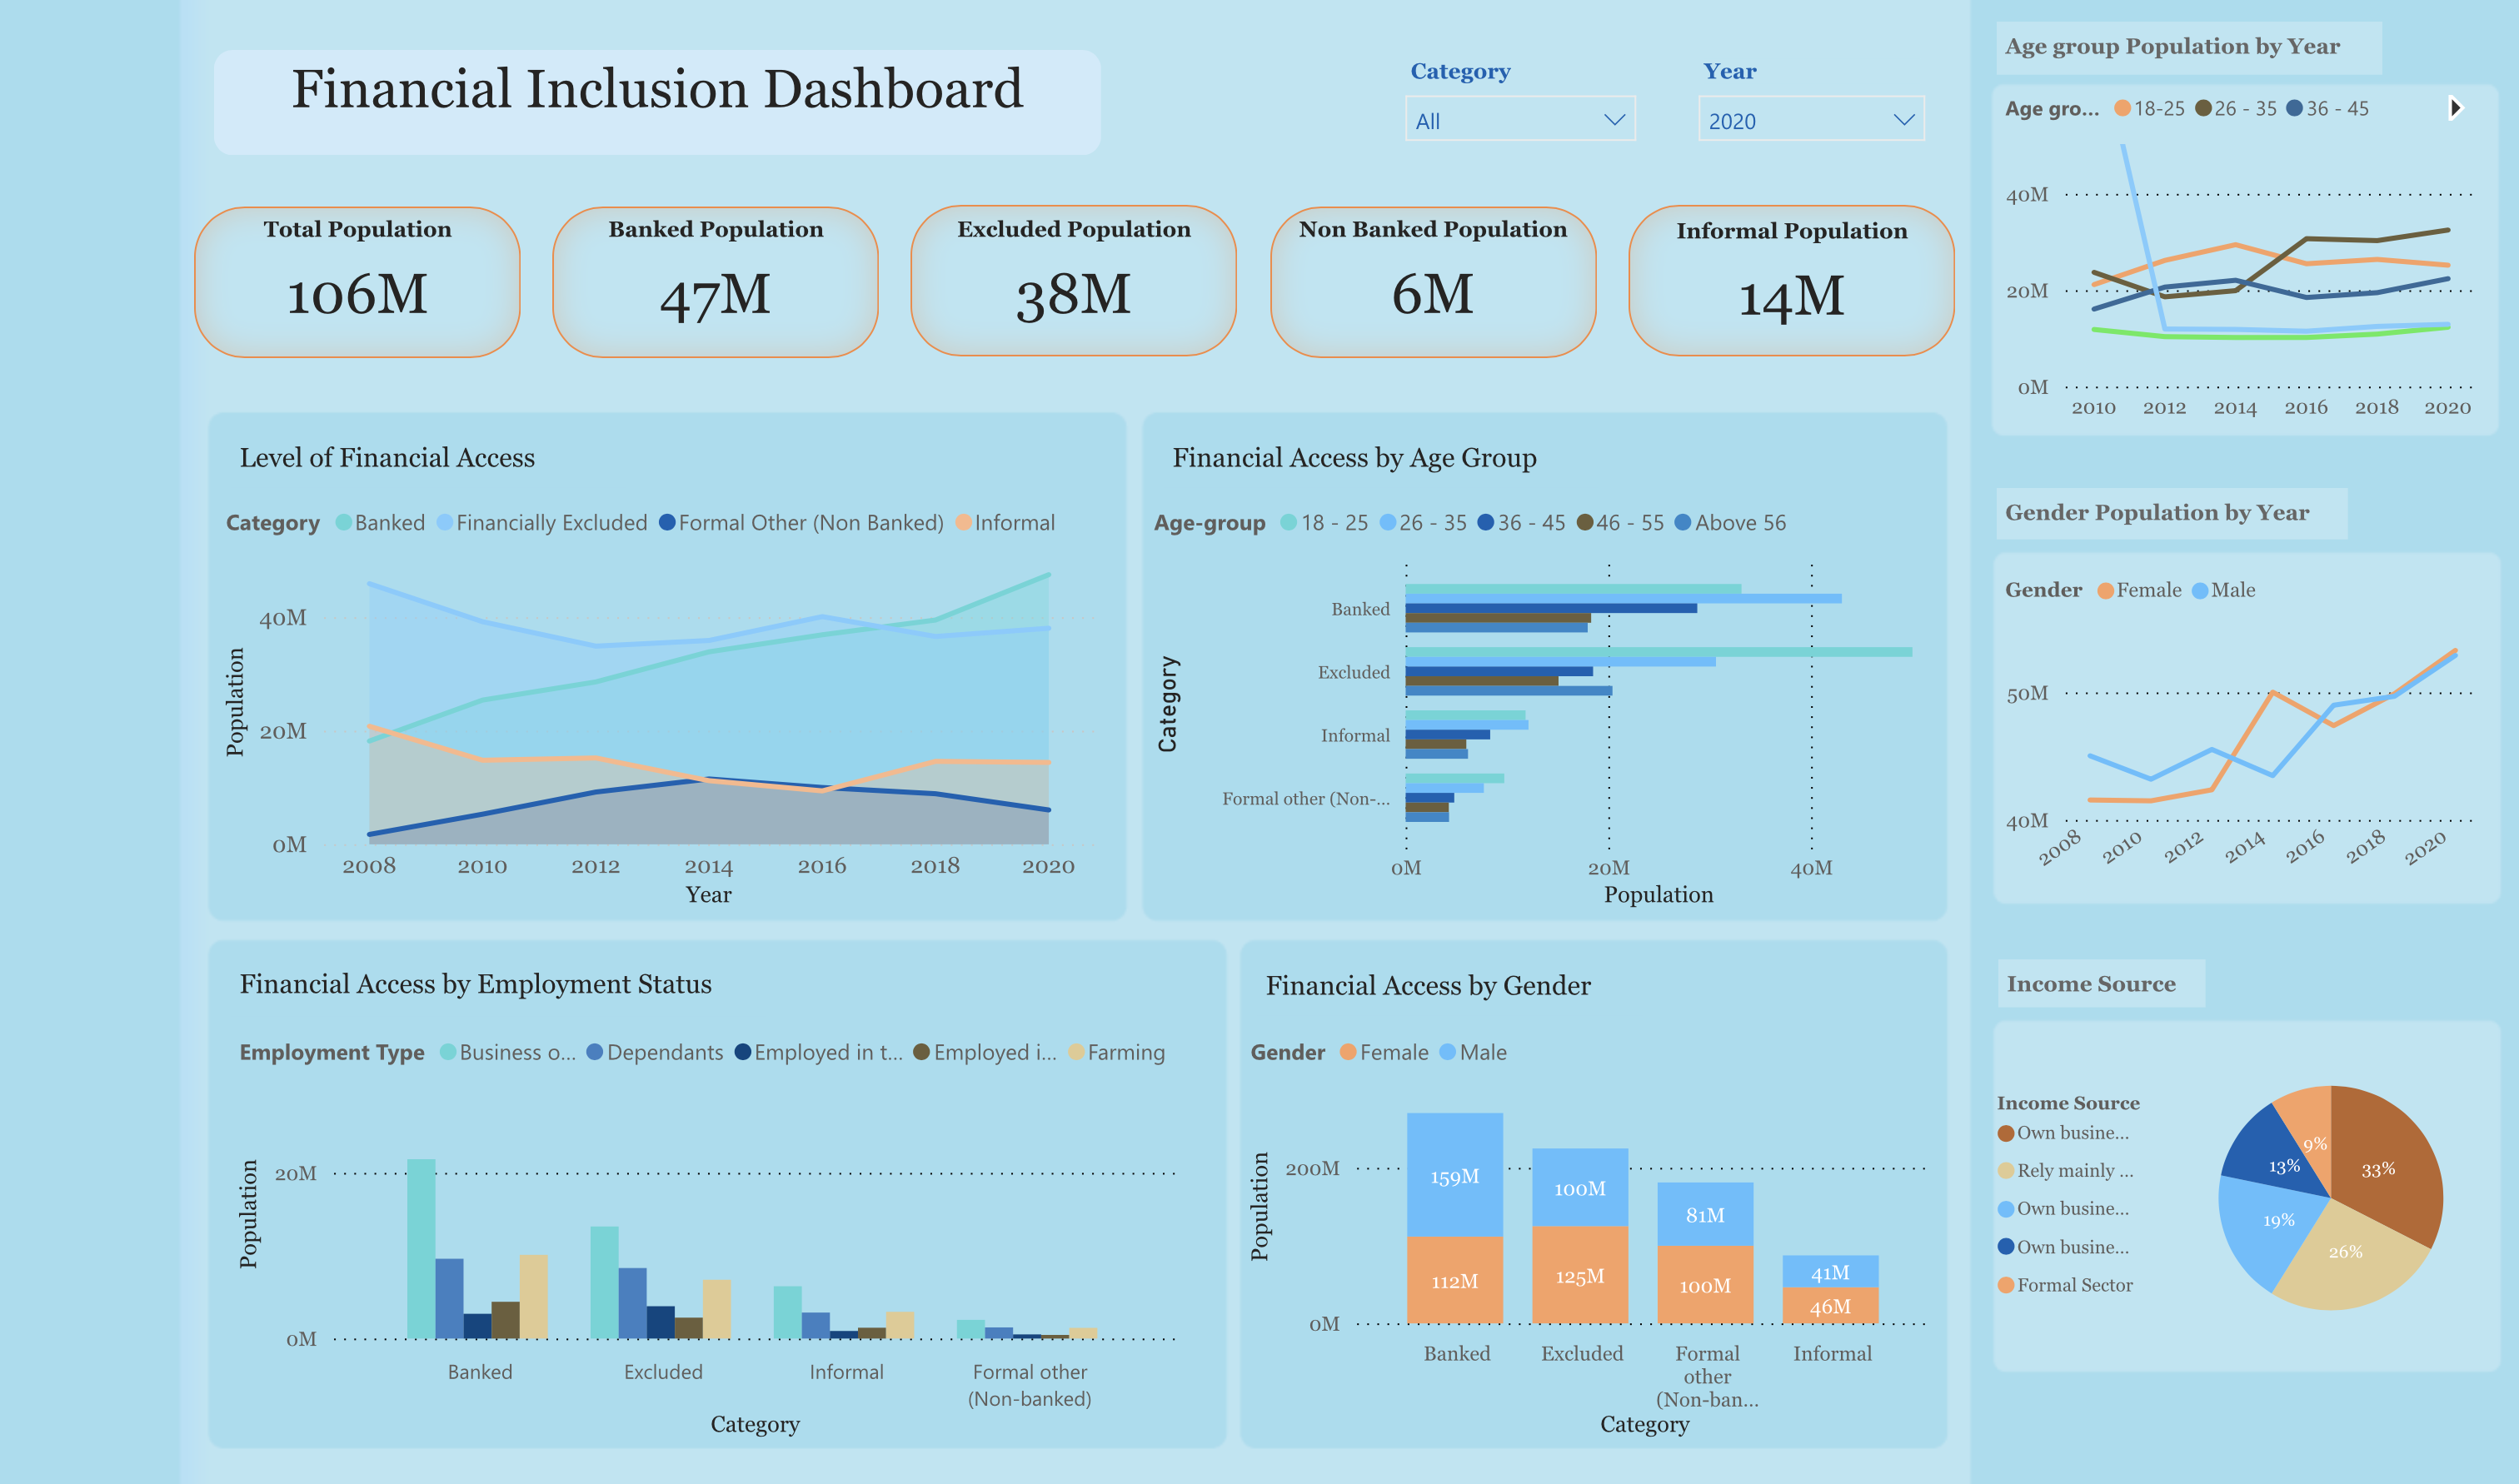

This screenshot's page, from the dashboard's own definition file:
{"tool":"powerbi","page":{"name":"OVERVIEW","canvas":[1500,900],"ordinal":0},"visuals":[{"type":"textbox","box":[131.5,44.9,526.2,62.5],"z":0},{"type":"textbox","box":[141.6,272.4,234.9,32.7],"z":1000},{"type":"textbox","box":[141.6,584.7,317.2,33.9],"z":2000},{"type":"textbox","box":[750.6,586,228.8,32.7],"z":3000},{"type":"textbox","box":[694.9,272.4,257.9,32.7],"z":4000},{"type":"textbox","box":[1190.5,584.3,122.8,28.5],"z":5000},{"type":"textbox","box":[1190.1,305.1,208.2,30.3],"z":6000},{"type":"textbox","box":[1190.1,27.8,228.8,31.5],"z":7000},{"type":"lineChart","fields":{"Series":["Age group Population.Age group "],"Category":["Age group Population.Year"],"Y":["Sum(Age group Population.Population)"]},"box":[1190.1,59.3,291.8,213.1],"z":8000},{"type":"lineChart","fields":{"Y":["Sum(Gender Population.Population)"],"Category":["Gender Population.Year"],"Series":["Gender Population.Gender"]},"box":[1190.1,346.2,291.8,204.6],"z":9000},{"type":"pieChart","fields":{"Y":["Sum(Income Source.Popuation %)"],"Category":["Income Source.Income Source","Income Source.Year"]},"box":[1185.2,618.6,314.8,214.3],"z":10000},{"type":"clusteredBarChart","fields":{"Y":["Sum(LFI= Lel of Fn Age group.Population )"],"Category":["LFI= Lel of Fn Age group.Category"],"Series":["LFI= Lel of Fn Age group.Age-group"]},"box":[684,305.1,473.4,254.2],"z":11000},{"type":"clusteredColumnChart","fields":{"Y":["Sum(LFI= Lel of Fn by Employmnt Sta.Population )"],"Category":["LFI= Lel of Fn by Employmnt Sta.Category"],"Series":["LFI= Lel of Fn by Employmnt Sta.Employment Type.1"]},"box":[141.6,618.6,566.6,254.2],"z":12000},{"type":"columnChart","fields":{"Y":["Sum(LFI= Lel of Fn by Gender.Population)"],"Category":["LFI= Lel of Fn by Gender.Category","LFI= Lel of Fn by Gender.Year"],"Series":["LFI= Lel of Fn by Gender.Gender"]},"box":[742.1,618.6,415.3,254.2],"z":13000},{"type":"areaChart","fields":{"Y":["Sum(LFI= Level of Financial Access.Population)"],"Category":["LFI= Level of Financial Access.Year"],"Series":["LFI= Level of Financial Access.Financial Access"]},"box":[133.2,305.1,525.4,254.2],"z":14000},{"type":"shape","box":[119.5,137,194,89.9],"z":16000},{"type":"slicer","fields":{"Values":["LFI= Level of Financial Access.Year"]},"box":[1003,44.9,154.6,65.8],"z":17000},{"type":"slicer","fields":{"Values":["LFI= Level of Financial Access.Category"]},"box":[828.7,44.9,156.8,66.9],"z":18000},{"type":"card","title":"Total Population","fields":{"Values":["LFI= Level of Financial Access.Total Population"]},"box":[133.7,143.6,166.6,74.5],"z":19000},{"type":"shape","box":[332.5,137.5,194,89.9],"z":20000},{"type":"card","title":"Banked Population","fields":{"Values":["LFI= Level of Financial Access.Banked Population"]},"box":[346.4,143.6,166.6,74.5],"z":21000},{"type":"shape","box":[545.4,136.1,194,89.9],"z":22000},{"type":"card","title":"Excluded Population","fields":{"Values":["LFI= Level of Financial Access.Total Population for Financially Excluded"]},"box":[559.1,143.6,166.6,74.5],"z":23000},{"type":"shape","box":[758.4,137.5,194,89.9],"z":24000},{"type":"card","title":"Non Banked Population","fields":{"Values":["LFI= Level of Financial Access.Total Population for Formal Other (Non Banked)"]},"box":[766.3,143.6,177.6,74.5],"z":25000},{"type":"shape","box":[971.4,136.8,194,89.9],"z":26000},{"type":"card","title":"Informal Population","fields":{"Values":["LFI= Level of Financial Access.Total Population for Informal"]},"box":[985.5,144.7,166.6,74.5],"z":27000}]}

Visuals, with their boxes in screenshot pixels (x1, y1, x2, y2), scaled from the page's 1500x900 canvas onto the 2519x1484 screenshot:
textbox: {"left": 221, "top": 74, "right": 1105, "bottom": 177}
textbox: {"left": 237, "top": 449, "right": 632, "bottom": 503}
textbox: {"left": 237, "top": 964, "right": 771, "bottom": 1020}
textbox: {"left": 1260, "top": 966, "right": 1644, "bottom": 1020}
textbox: {"left": 1167, "top": 449, "right": 1600, "bottom": 503}
textbox: {"left": 1999, "top": 964, "right": 2206, "bottom": 1010}
textbox: {"left": 1998, "top": 503, "right": 2348, "bottom": 553}
textbox: {"left": 1998, "top": 46, "right": 2383, "bottom": 97}
lineChart - Age group Population.Age group  x Age group Population.Year: {"left": 1998, "top": 97, "right": 2489, "bottom": 449}
lineChart - Sum(Gender Population.Population) x Gender Population.Year: {"left": 1998, "top": 570, "right": 2489, "bottom": 909}
pieChart - Sum(Income Source.Popuation %) x Income Source.Income Source: {"left": 1990, "top": 1020, "right": 2518, "bottom": 1373}
clusteredBarChart - Sum(LFI= Lel of Fn Age group.Population ) x LFI= Lel of Fn Age group.Category: {"left": 1149, "top": 503, "right": 1943, "bottom": 922}
clusteredColumnChart - Sum(LFI= Lel of Fn by Employmnt Sta.Population ) x LFI= Lel of Fn by Employmnt Sta.Category: {"left": 237, "top": 1020, "right": 1190, "bottom": 1439}
columnChart - Sum(LFI= Lel of Fn by Gender.Population) x LFI= Lel of Fn by Gender.Category: {"left": 1246, "top": 1020, "right": 1943, "bottom": 1439}
areaChart - Sum(LFI= Level of Financial Access.Population) x LFI= Level of Financial Access.Year: {"left": 224, "top": 503, "right": 1106, "bottom": 922}
shape: {"left": 201, "top": 226, "right": 526, "bottom": 374}
slicer - LFI= Level of Financial Access.Year: {"left": 1684, "top": 74, "right": 1944, "bottom": 182}
slicer - LFI= Level of Financial Access.Category: {"left": 1392, "top": 74, "right": 1655, "bottom": 184}
"Total Population" card: {"left": 225, "top": 237, "right": 504, "bottom": 360}
shape: {"left": 558, "top": 227, "right": 884, "bottom": 375}
"Banked Population" card: {"left": 581, "top": 237, "right": 861, "bottom": 360}
shape: {"left": 916, "top": 224, "right": 1242, "bottom": 372}
"Excluded Population" card: {"left": 939, "top": 237, "right": 1219, "bottom": 360}
shape: {"left": 1274, "top": 227, "right": 1599, "bottom": 375}
"Non Banked Population" card: {"left": 1287, "top": 237, "right": 1585, "bottom": 360}
shape: {"left": 1631, "top": 226, "right": 1957, "bottom": 374}
"Informal Population" card: {"left": 1655, "top": 239, "right": 1935, "bottom": 361}
